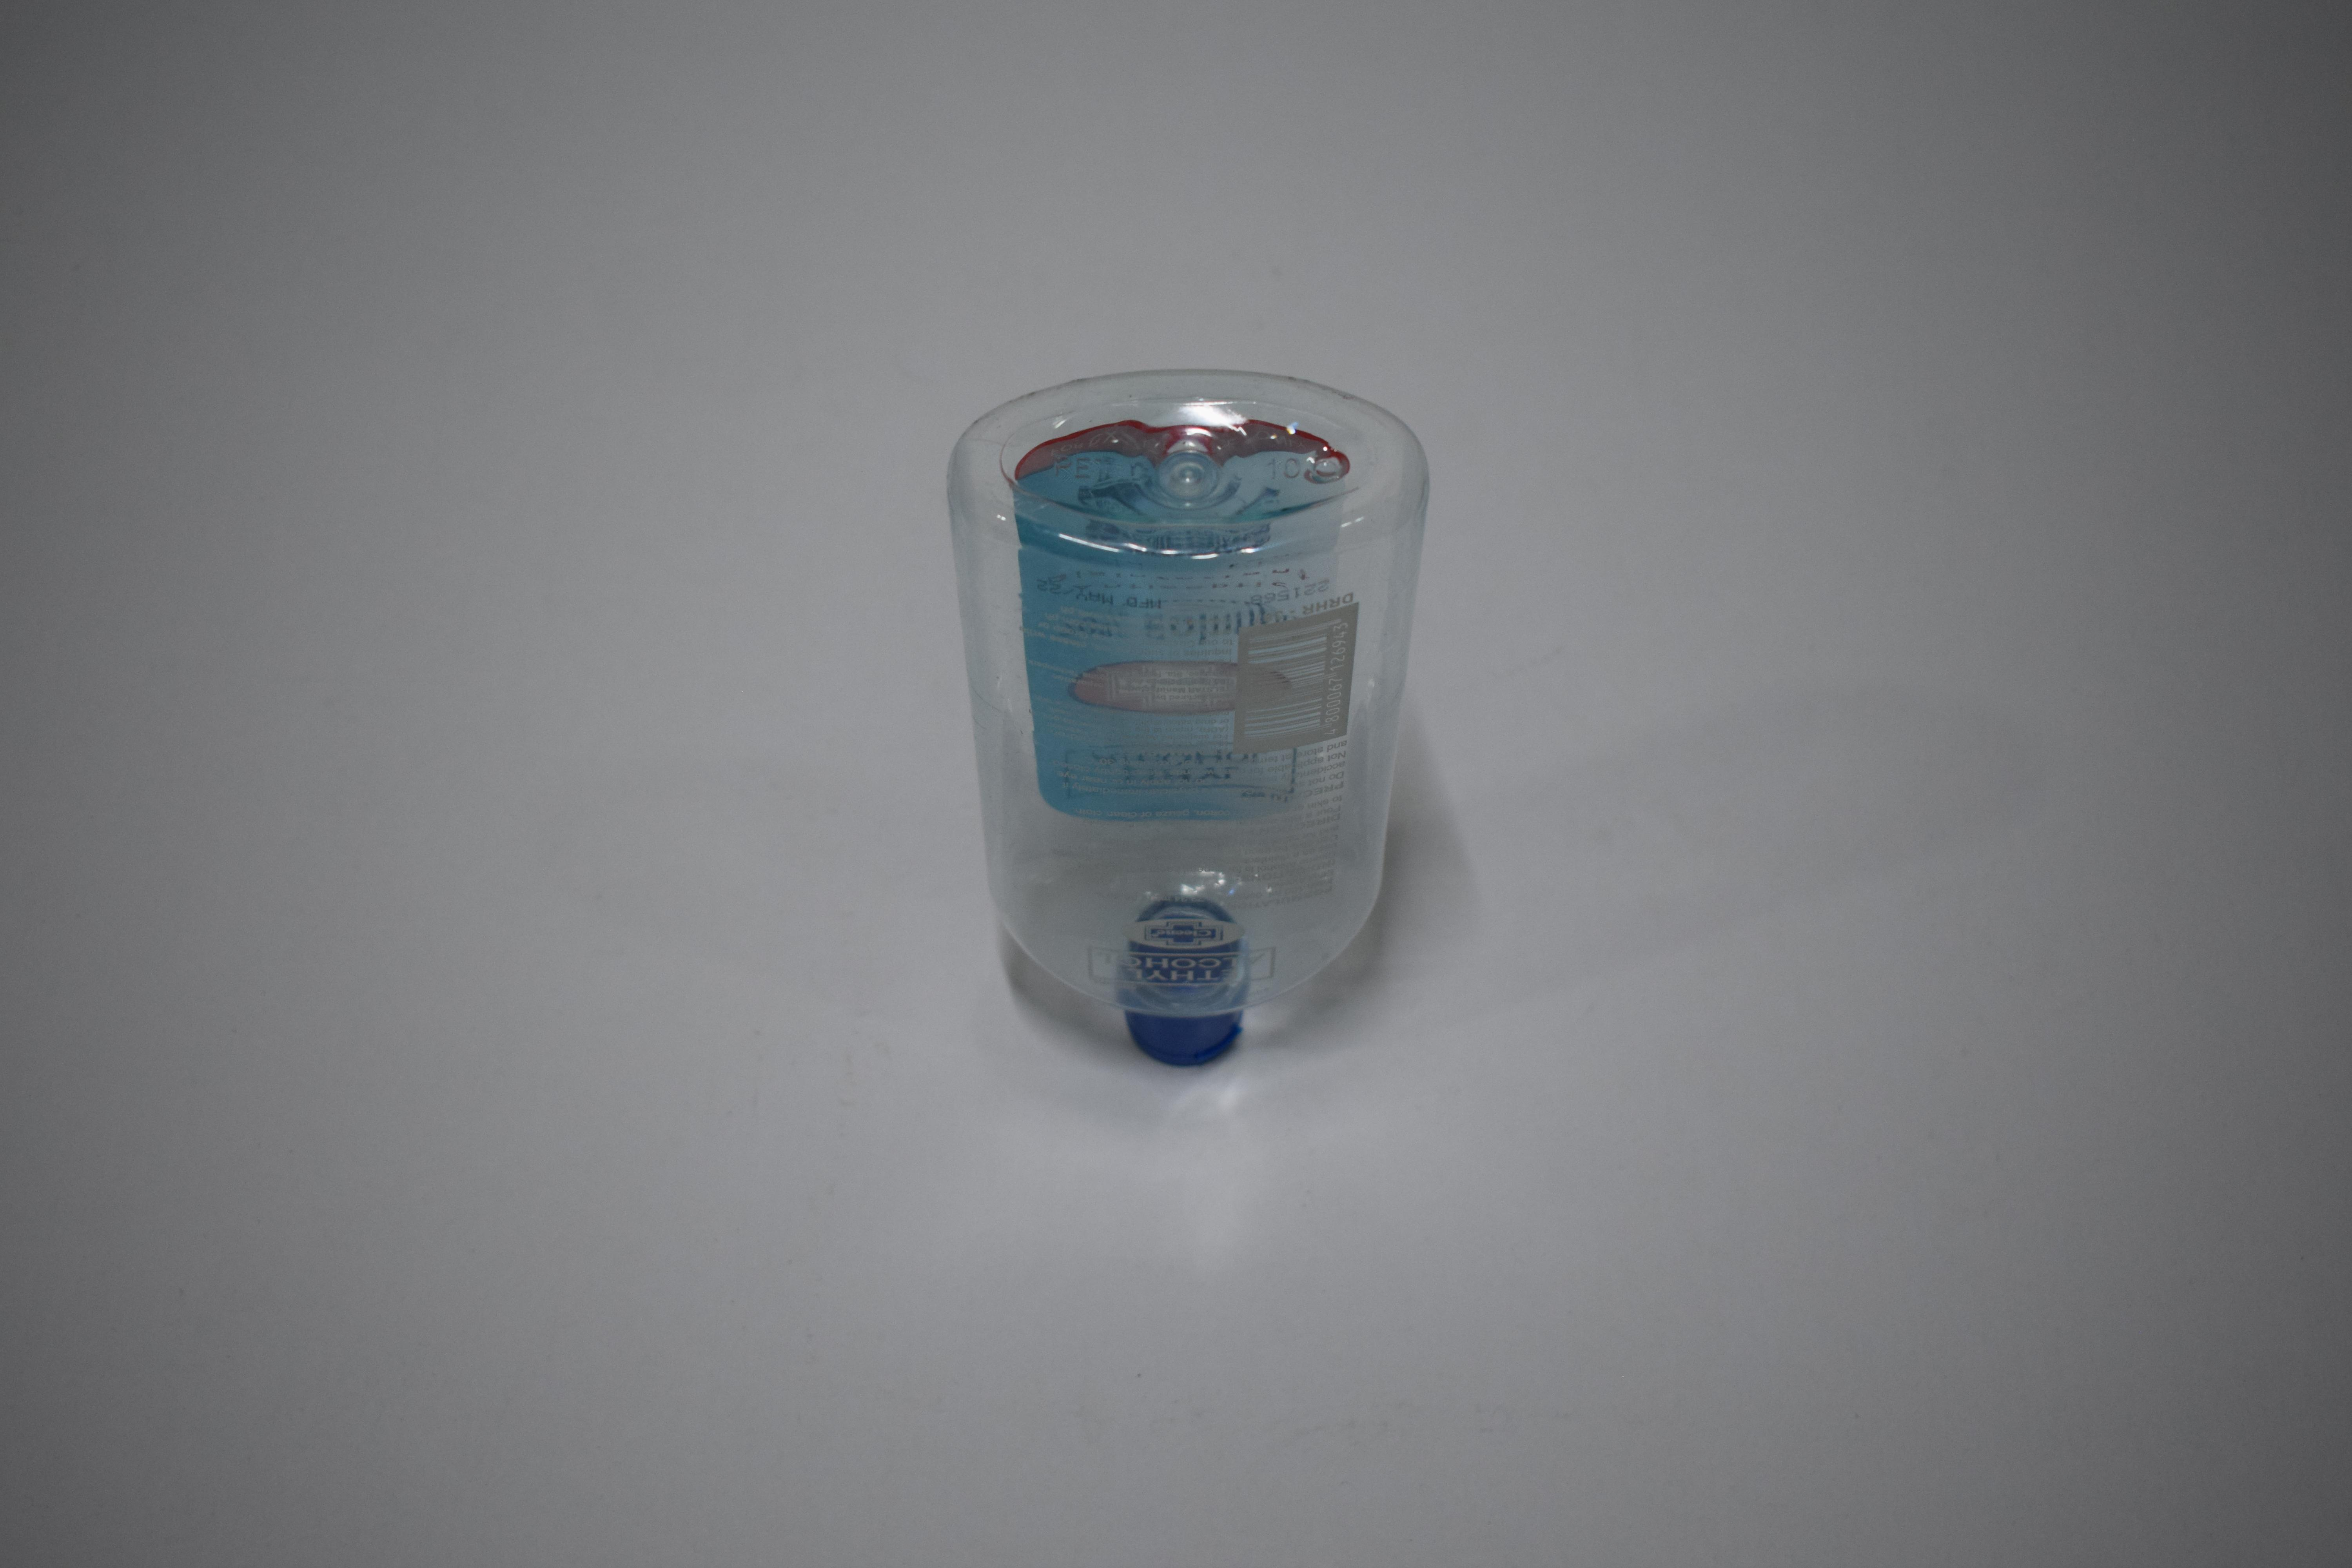bottle: (0, 313, 249, 952)
